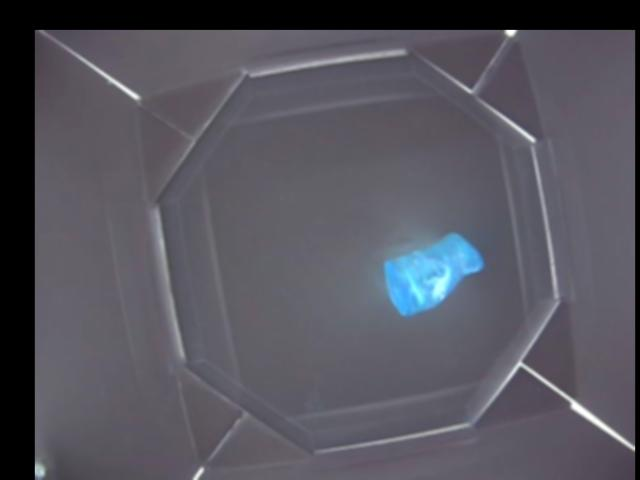Carrot: (384, 232, 482, 314)
